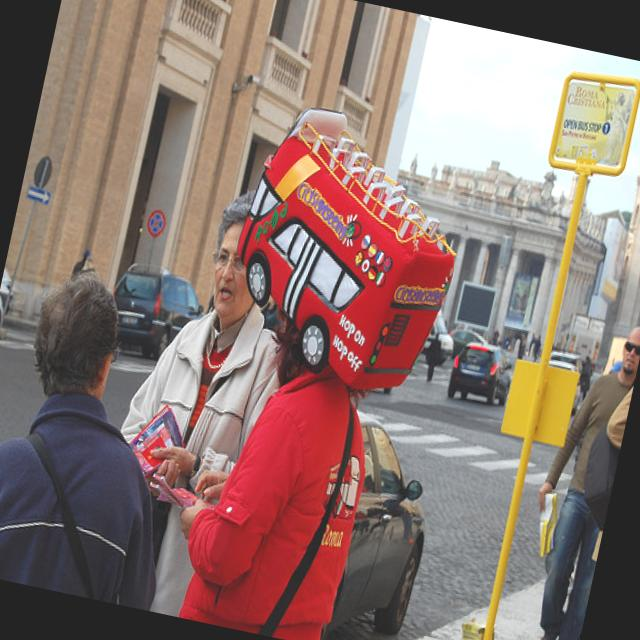Vehicle: (214, 99, 482, 408), (307, 410, 446, 640), (101, 262, 207, 363), (446, 338, 518, 410), (539, 349, 589, 415), (418, 305, 461, 363), (444, 327, 489, 362)
